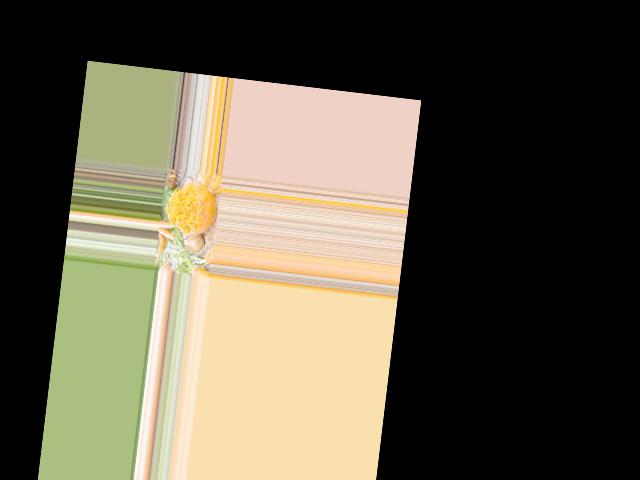carrot: (160, 220, 174, 229)
